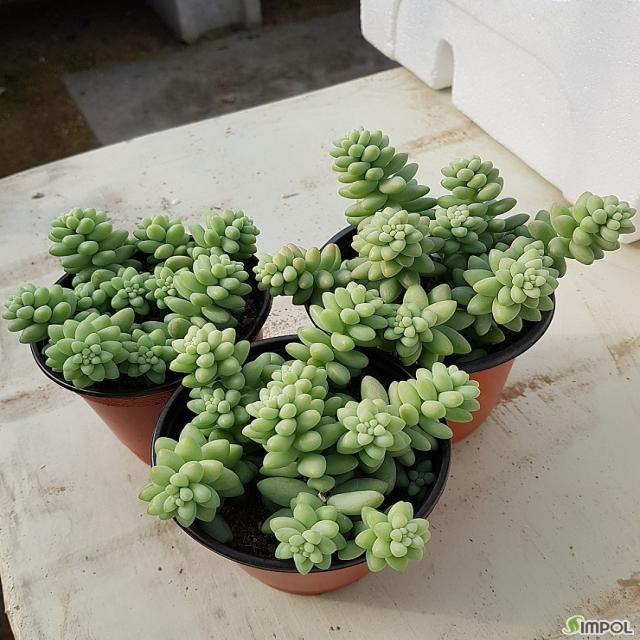Sedum: (139, 424, 257, 527), (329, 128, 436, 224), (347, 208, 445, 302), (464, 236, 559, 329), (377, 284, 475, 368), (529, 191, 635, 264), (263, 491, 352, 574), (42, 309, 134, 388), (49, 208, 136, 286), (163, 254, 251, 329), (338, 501, 430, 572), (254, 244, 351, 304), (337, 399, 410, 468), (3, 284, 77, 343), (430, 202, 505, 256), (118, 321, 176, 384), (100, 266, 150, 315)
